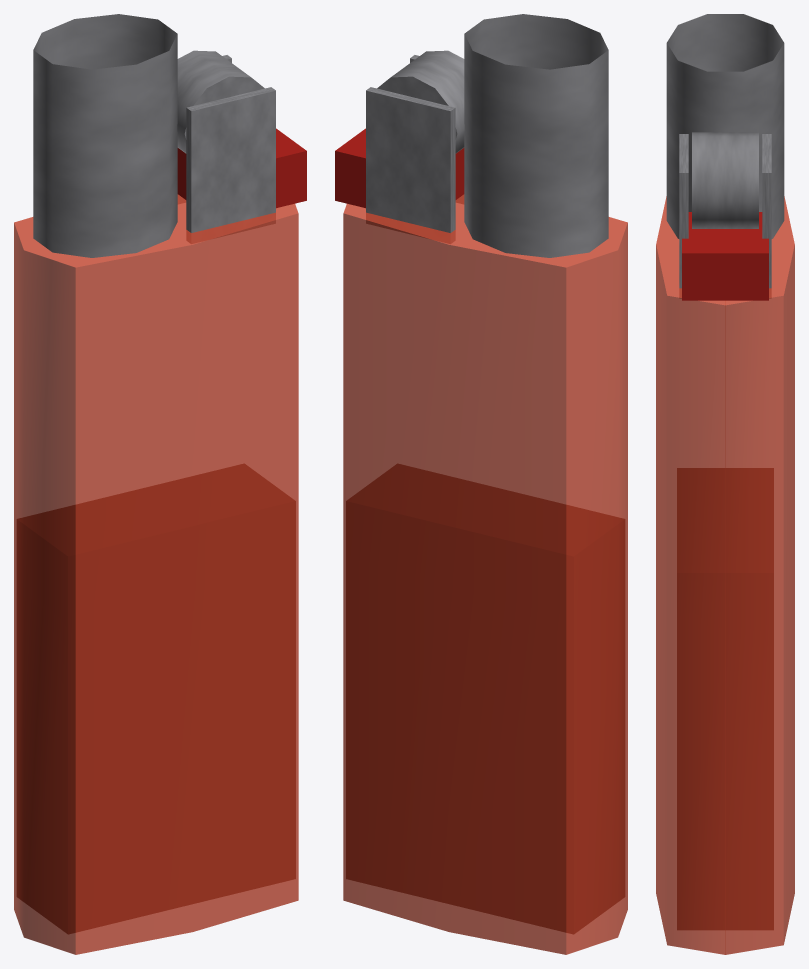
Rendered from lighter_L1.glb.
The picture shows the model from 3 angles, left to right: view 1: azimuth 30°, elevation 25°; view 2: azimuth 150°, elevation 25°; view 3: azimuth 270°, elevation 25°; orthographic projection. The views are drawn at different scales.
Parts seen in each view (by area): view 1: body, butane, hood, fork, wheel, lever; view 2: body, butane, hood, fork, wheel, lever; view 3: body, butane, hood, wheel, lever, fork (×2).
Boxes of the visible parts, bbox=[...] form: body: bbox=[14, 194, 298, 954]; butane: bbox=[17, 464, 295, 933]; hood: bbox=[33, 14, 177, 257]; fork: bbox=[186, 87, 275, 243]; wheel: bbox=[177, 50, 264, 153]; lever: bbox=[177, 128, 306, 208]; body: bbox=[343, 194, 627, 954]; butane: bbox=[346, 464, 624, 933]; hood: bbox=[464, 14, 608, 257]; fork: bbox=[366, 87, 455, 243]; wheel: bbox=[377, 50, 464, 153]; lever: bbox=[335, 128, 464, 208]; body: bbox=[656, 196, 794, 954]; butane: bbox=[677, 468, 773, 929]; hood: bbox=[666, 14, 784, 238]; wheel: bbox=[692, 132, 758, 228]; lever: bbox=[682, 212, 768, 300]; fork (×2): bbox=[679, 134, 771, 297].
Size of the model in its own units: 0.025 by 0.079 by 0.012.
Materials: 4 (1 with a texture image).
